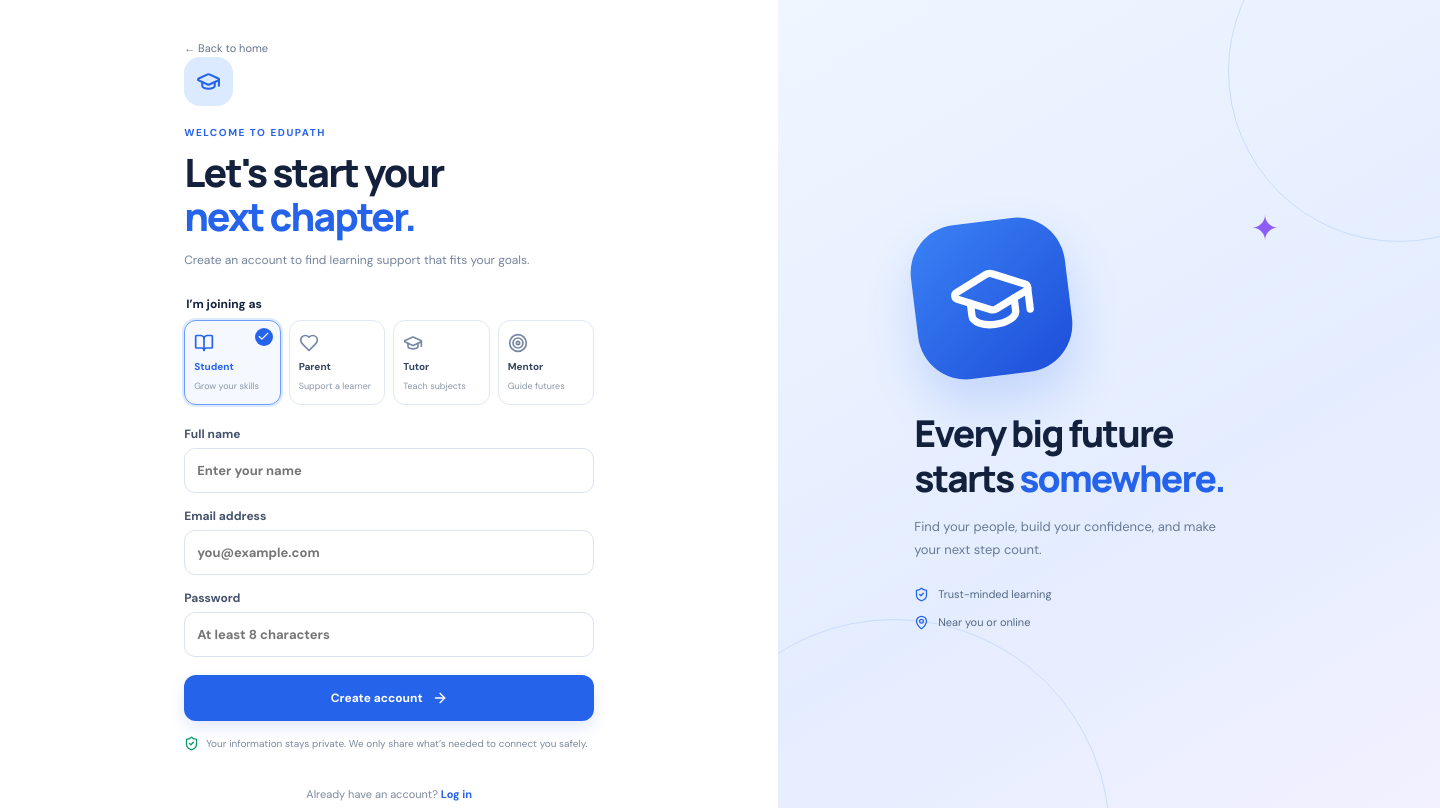
Test: sign up › reports an already-registered email without creating anything
Type "Sara Bekele" into the field labelled "Full name" at (389,470), box [184,448,594,493]
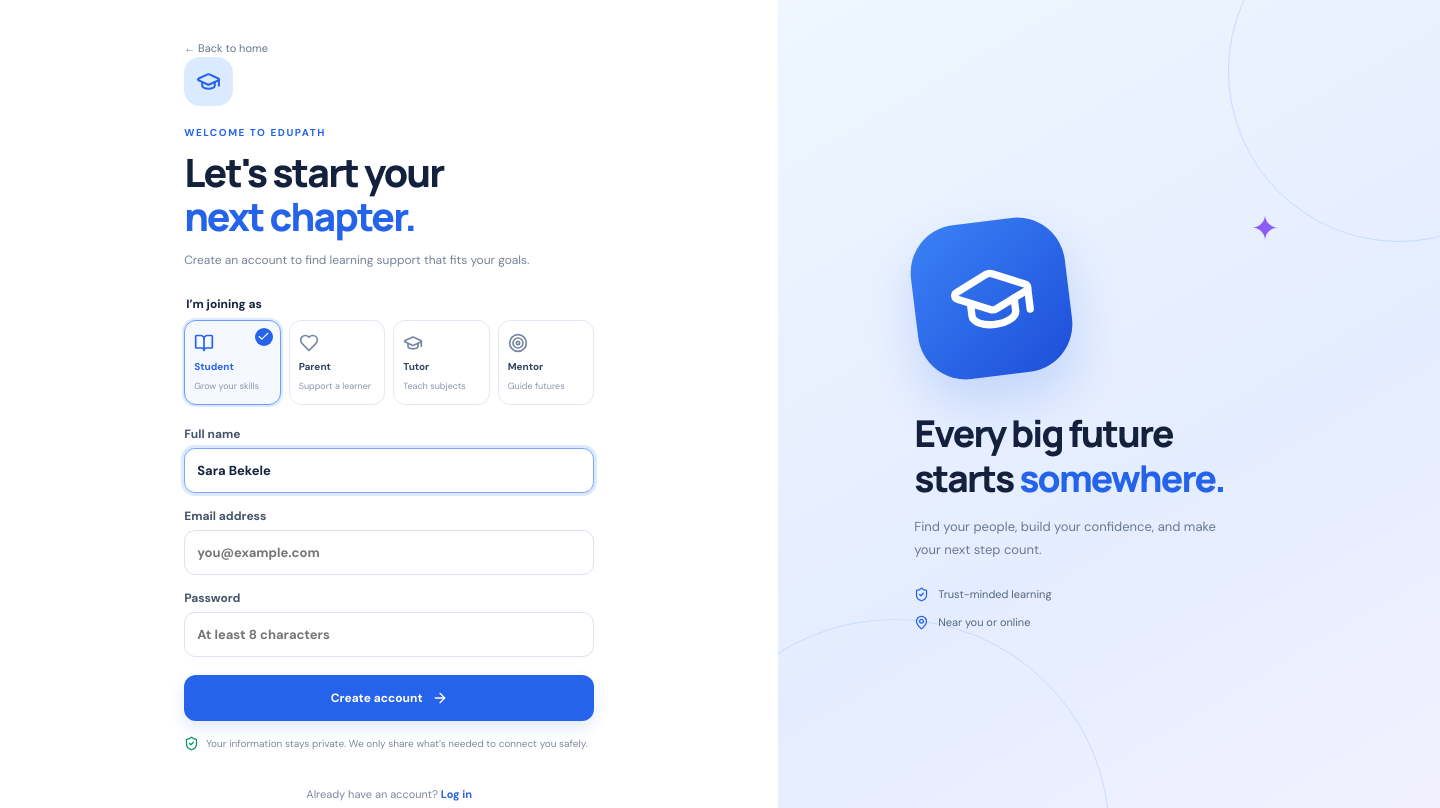
Type "sara@example.et" into the field labelled "Email address" at (389,552), box [184,530,594,575]
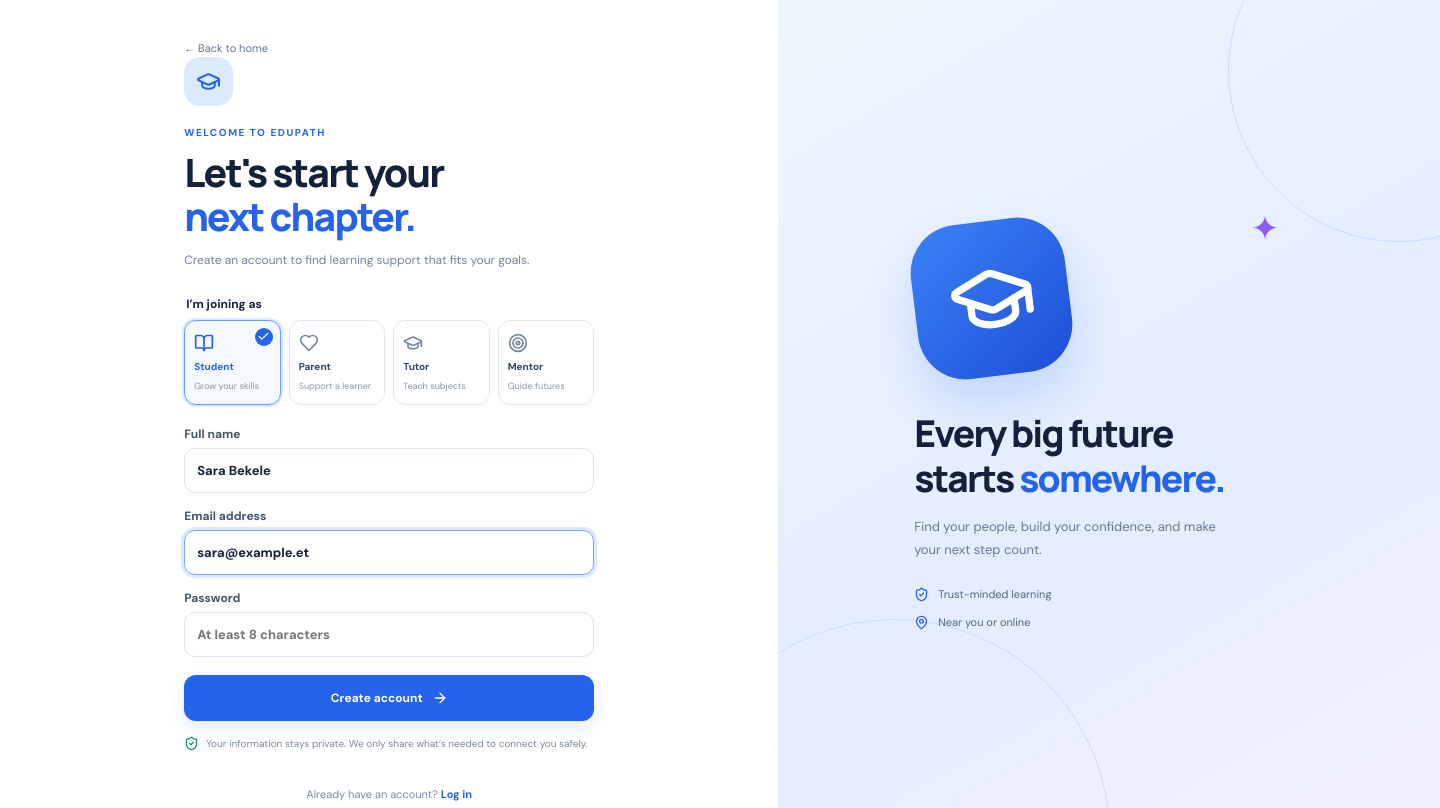
Type "longenough1" into the password field labelled "Password" at (389,634), box [184,612,594,657]
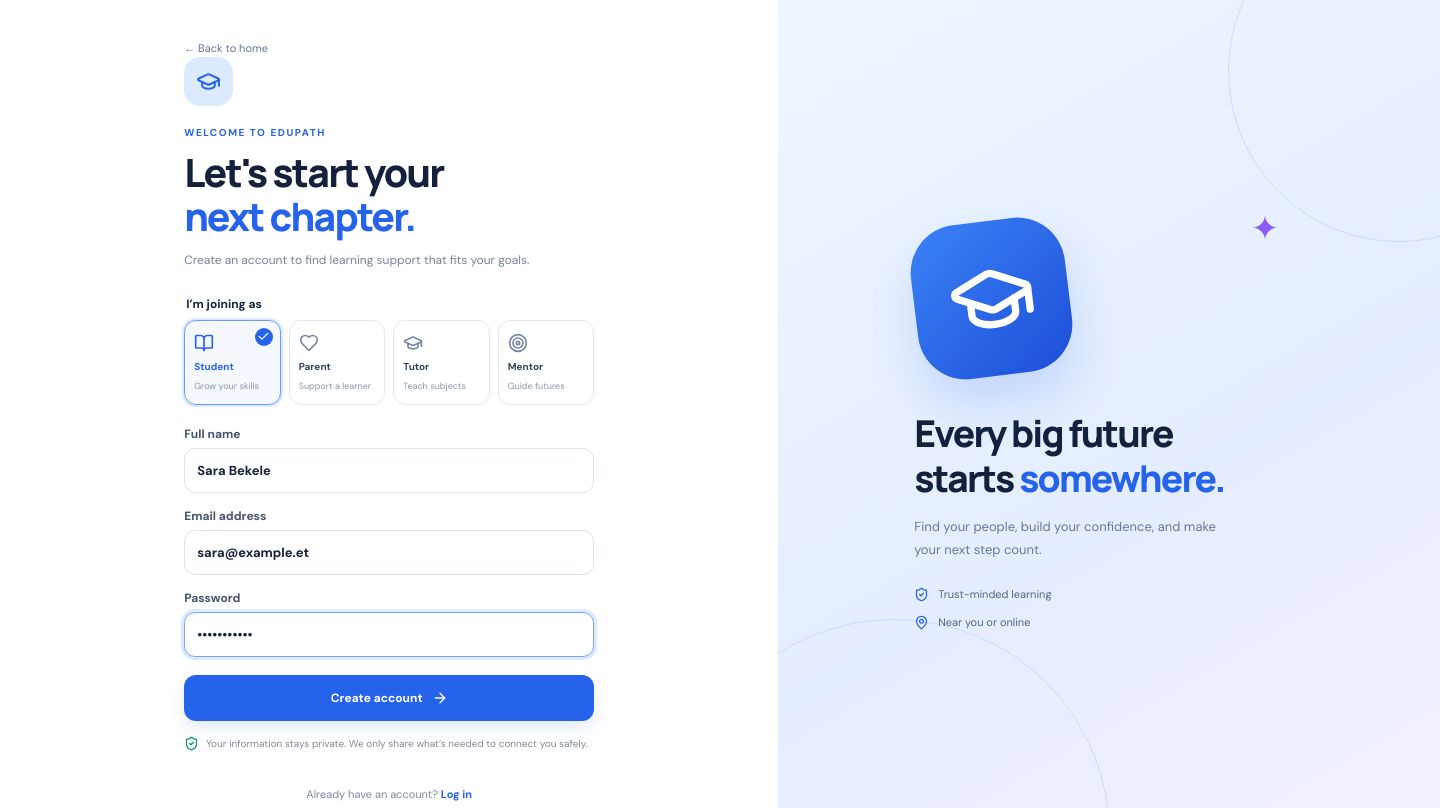
Click the button "Create account" at (389,698), box [184,675,594,721]
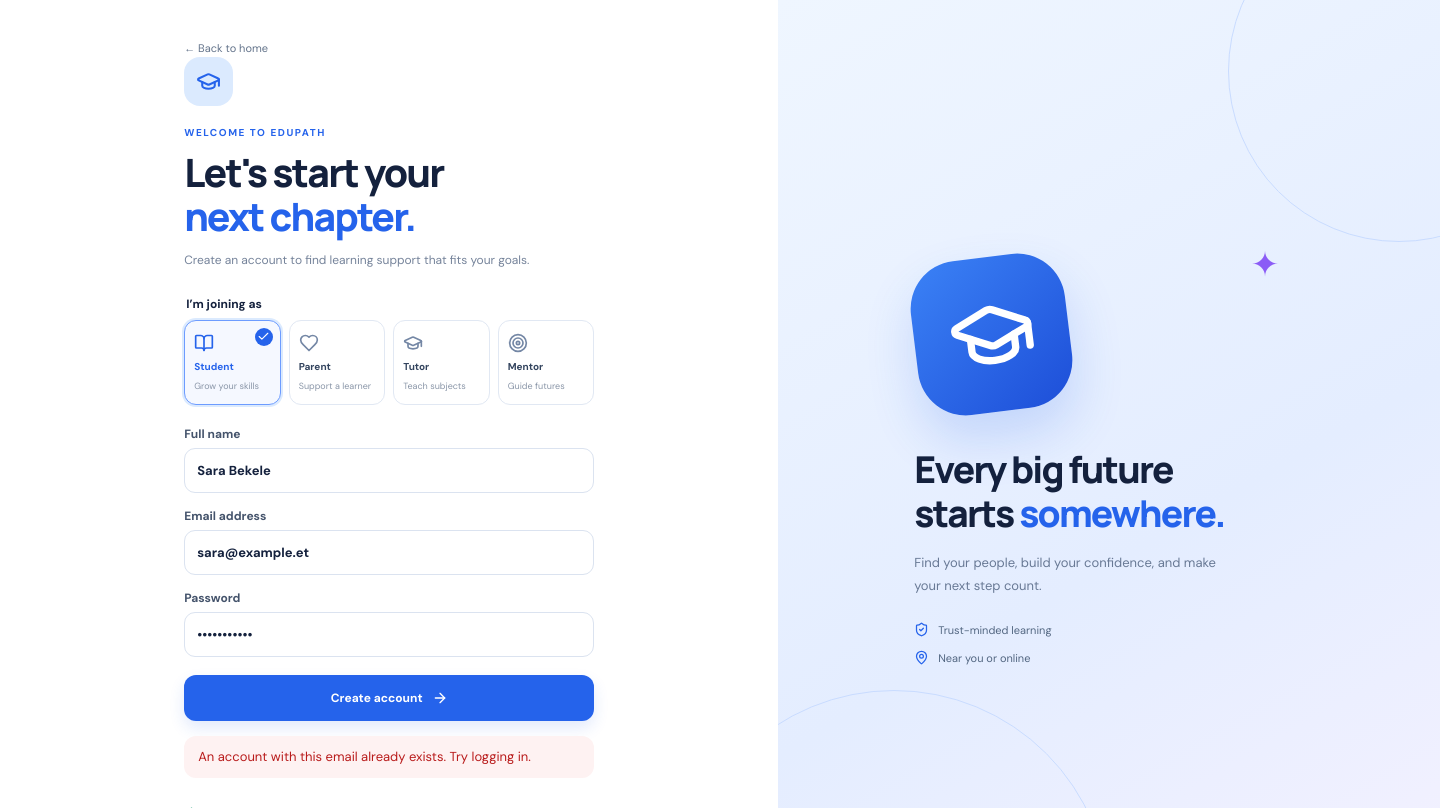
Now the message shows "already exists", box [198,748,531,765]
